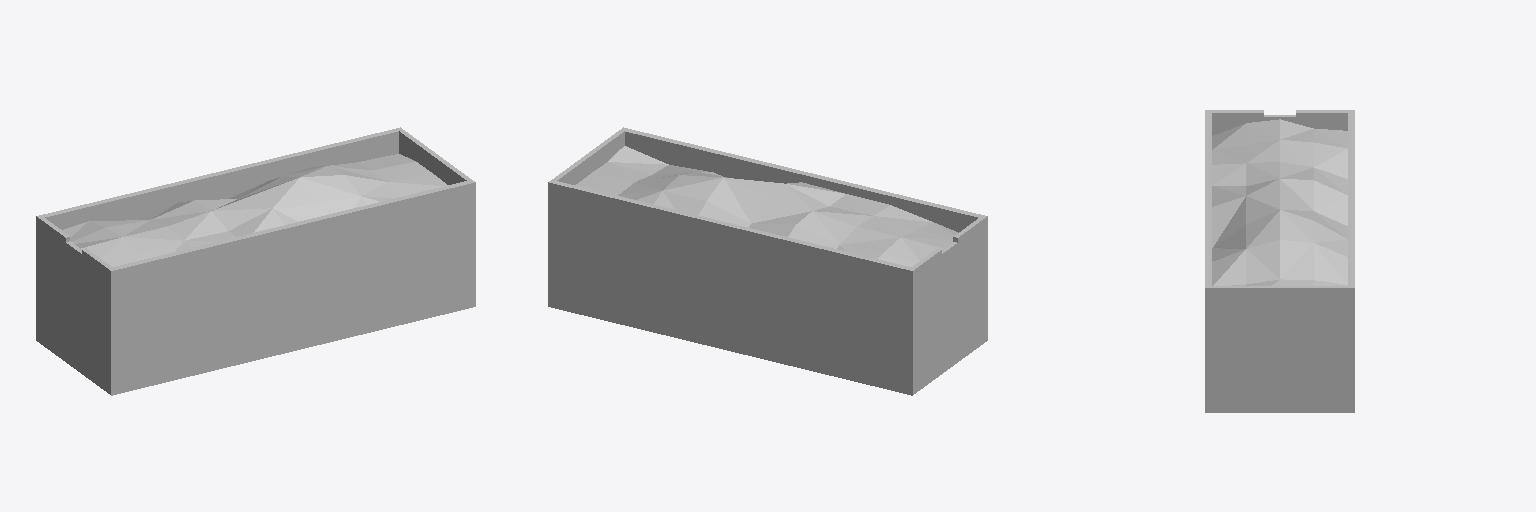
Rendered from Crate_A_Full.obj.
3 views of the same model, side by side, from view 1: azimuth 30°, elevation 25°; view 2: azimuth 150°, elevation 25°; view 3: azimuth 270°, elevation 25° (orthographic).
Visible parts, largest first — view 1: Cargo_2_full; view 2: Cargo_2_full; view 3: Cargo_2_full.
Boxes of the visible parts, x1,y1,x2,y2 form: Cargo_2_full: [36, 127, 475, 395]; Cargo_2_full: [548, 127, 987, 395]; Cargo_2_full: [1205, 110, 1354, 412].
Bounding box in the file's own units: 4.94 × 1.76 × 1.76.